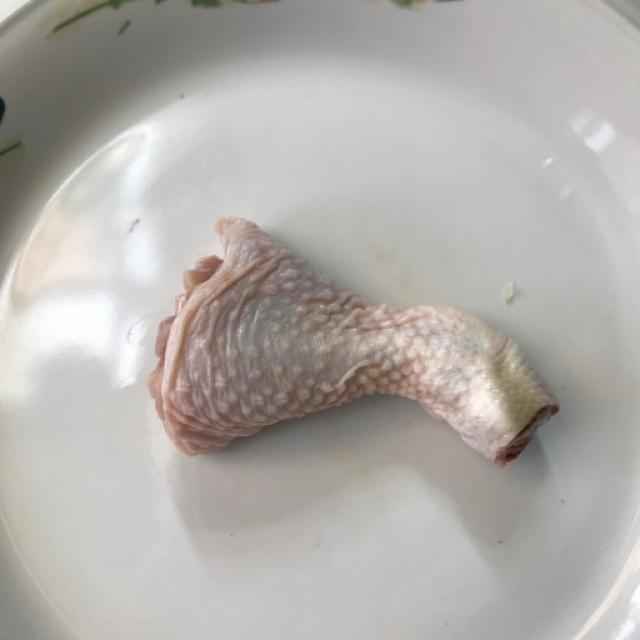chicken breast: (138, 202, 565, 504)
